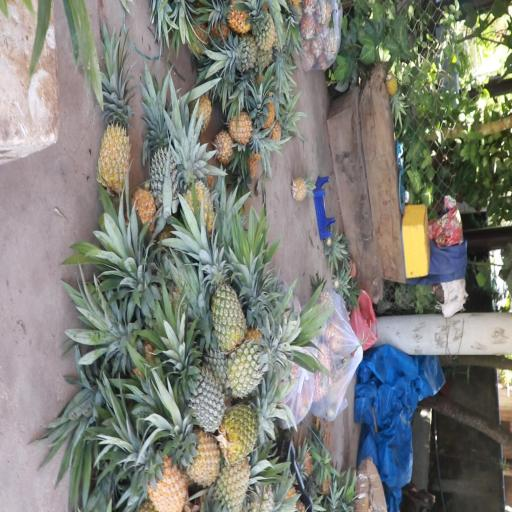------------------------------: (192, 227, 244, 346), (231, 312, 302, 394), (223, 392, 297, 460)
Pineapple - v8 v1: (104, 414, 186, 509), (154, 401, 220, 488), (94, 66, 136, 194), (176, 134, 218, 237), (212, 458, 256, 512), (226, 108, 264, 153)
